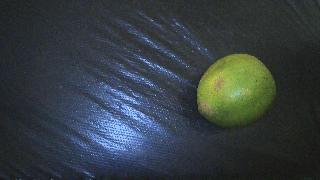DESECHO: (197, 54, 276, 127)
